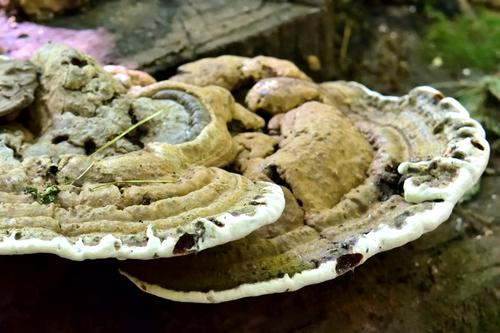Ganoderma - Fruit Body: (3, 45, 493, 305)
